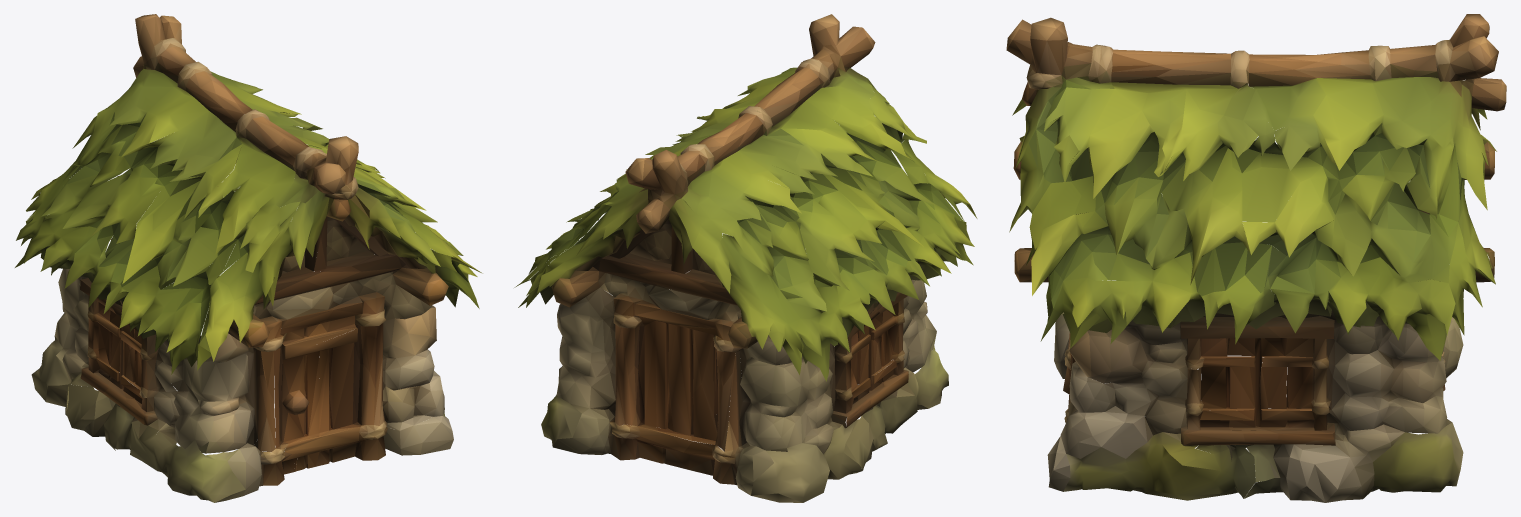
The model's file is building-stoneHouse.glb.
3 views of the same model, side by side, from view 1: azimuth 30°, elevation 25°; view 2: azimuth 150°, elevation 25°; view 3: azimuth 270°, elevation 25° (orthographic). The views are drawn at different scales.
Visible parts, largest first — view 1: 0_stoneHouse; view 2: 0_stoneHouse; view 3: 0_stoneHouse.
Boxes of the visible parts, <box> form: 0_stoneHouse: <box>15,14,482,502</box>; 0_stoneHouse: <box>514,14,977,502</box>; 0_stoneHouse: <box>1006,14,1506,502</box>.
Size of the model in its own units: 5.3 by 5.02 by 5.64.
